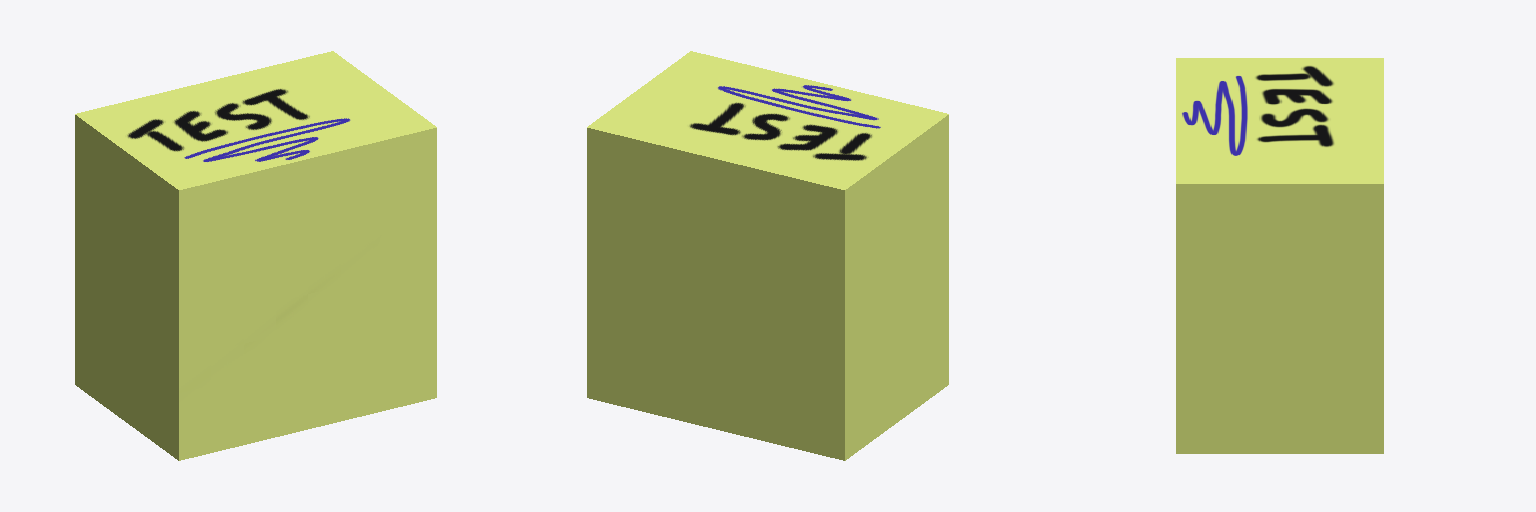
3 renders of one model, left to right at view 1: azimuth 30°, elevation 25°; view 2: azimuth 150°, elevation 25°; view 3: azimuth 270°, elevation 25°, orthographic.
Visible parts, largest first — view 1: BlockAsset1; view 2: BlockAsset1; view 3: BlockAsset1.
Boxes of the visible parts, x1,y1,x2,y2 form: BlockAsset1: [75, 51, 436, 460]; BlockAsset1: [587, 51, 948, 460]; BlockAsset1: [1176, 58, 1383, 453].
Bounding box in the file's own units: 0.1 × 0.1 × 0.07.
Materials: 1 (1 with a texture image).